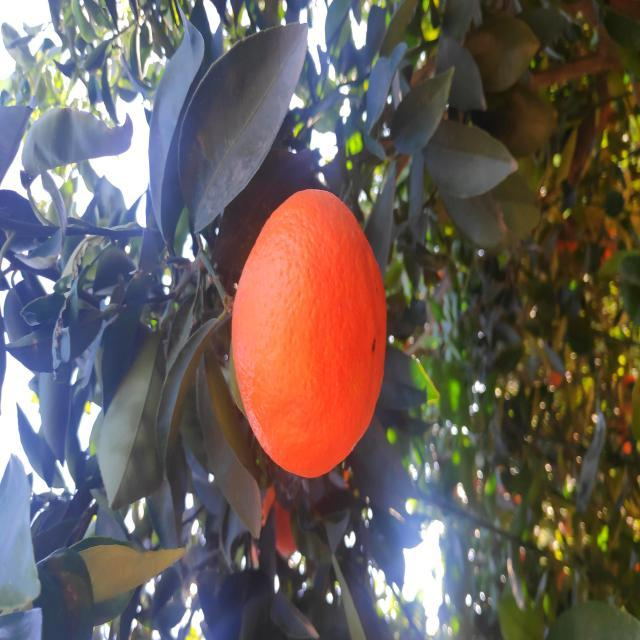Jeruk Sudah Matang: (164, 230, 450, 386), (70, 251, 156, 301)
